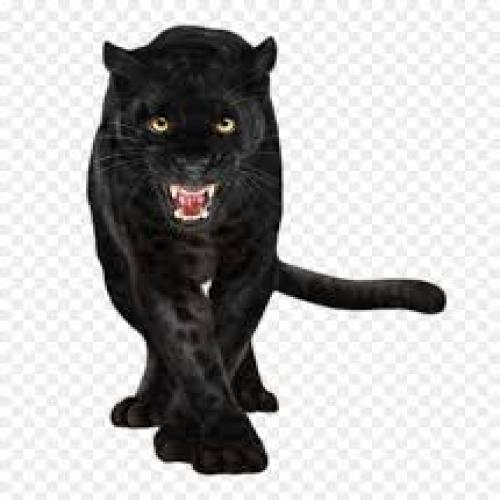panther-endangered: (79, 21, 443, 464)
